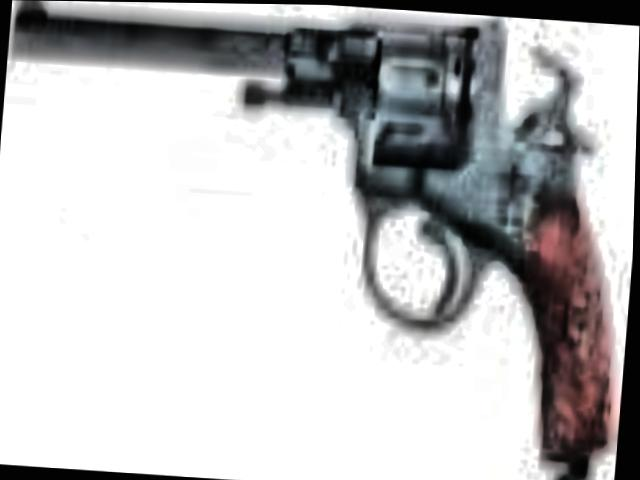pistol: (0, 0, 624, 450)
